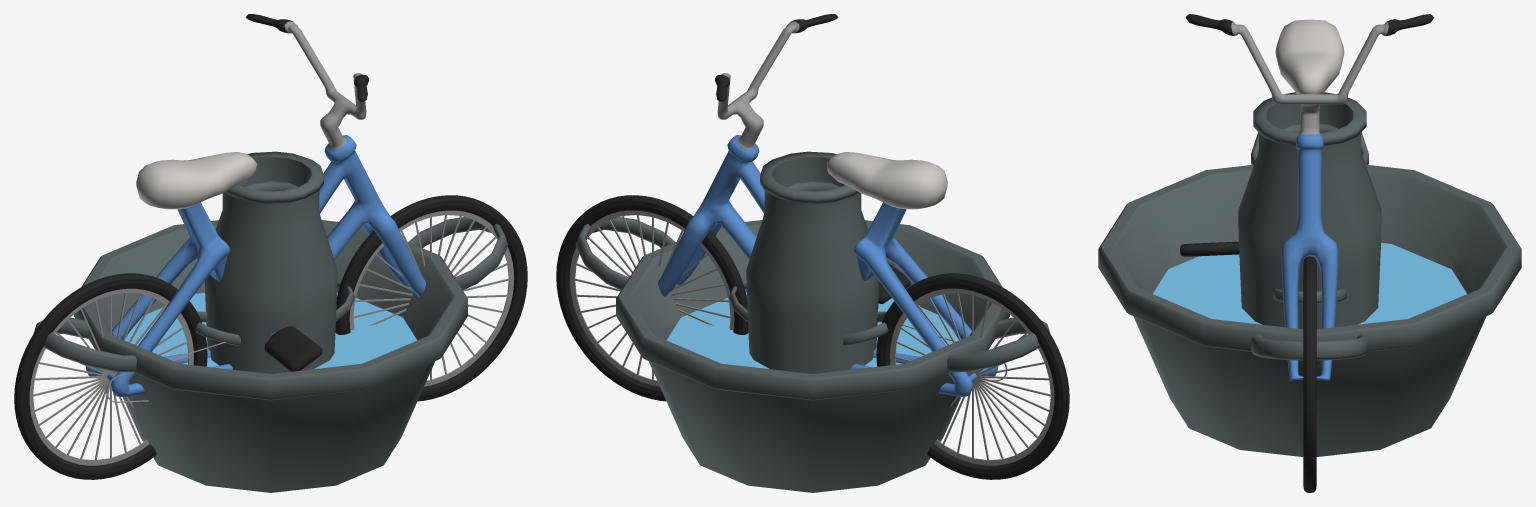
The model's file is Set8Decoración.fbx.
3 renders of one model, left to right at view 1: azimuth 30°, elevation 25°; view 2: azimuth 150°, elevation 25°; view 3: azimuth 270°, elevation 25°, orthographic. The views are drawn at different scales.
Visible parts, largest first — view 1: Fuente, Bicicleta, Jarron, Fuente con agua, Jarronleche; view 2: Fuente, Bicicleta, Jarron, Fuente con agua, Jarronleche; view 3: Fuente, Fuente con agua, Jarron, Bicicleta, Jarronleche.
Boxes of the visible parts, bbox=[...] form: Fuente: bbox=[33, 217, 508, 492]; Bicicleta: bbox=[14, 14, 527, 479]; Jarron: bbox=[204, 151, 337, 373]; Fuente con agua: bbox=[41, 222, 499, 371]; Jarronleche: bbox=[195, 181, 355, 345]; Fuente: bbox=[576, 217, 1048, 492]; Bicicleta: bbox=[556, 14, 1069, 479]; Jarron: bbox=[746, 151, 879, 373]; Fuente con agua: bbox=[575, 218, 1050, 371]; Jarronleche: bbox=[728, 181, 888, 345]; Fuente: bbox=[1098, 132, 1521, 456]; Fuente con agua: bbox=[1117, 136, 1502, 359]; Jarron: bbox=[1238, 92, 1381, 329]; Bicicleta: bbox=[1180, 14, 1434, 492]; Jarronleche: bbox=[1273, 123, 1346, 303].
Size of the model in its own units: 140 by 98.82 by 93.54.
